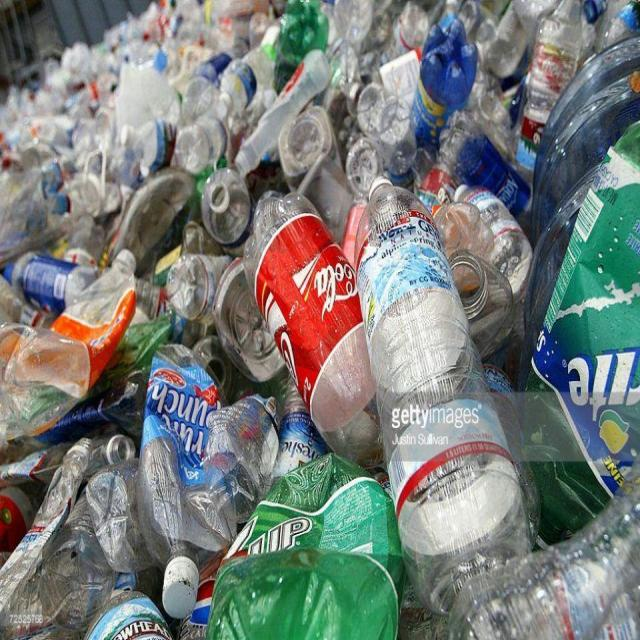heap: (1, 1, 640, 640)
plastic_bottle: (359, 183, 544, 611), (529, 116, 640, 537), (197, 454, 401, 640), (439, 469, 640, 640), (2, 250, 138, 433), (140, 360, 228, 608), (27, 447, 136, 635), (411, 18, 481, 141), (206, 166, 255, 247)
